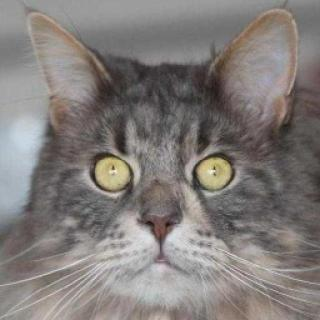cat: (29, 8, 303, 301)
nose: (133, 184, 184, 244)
